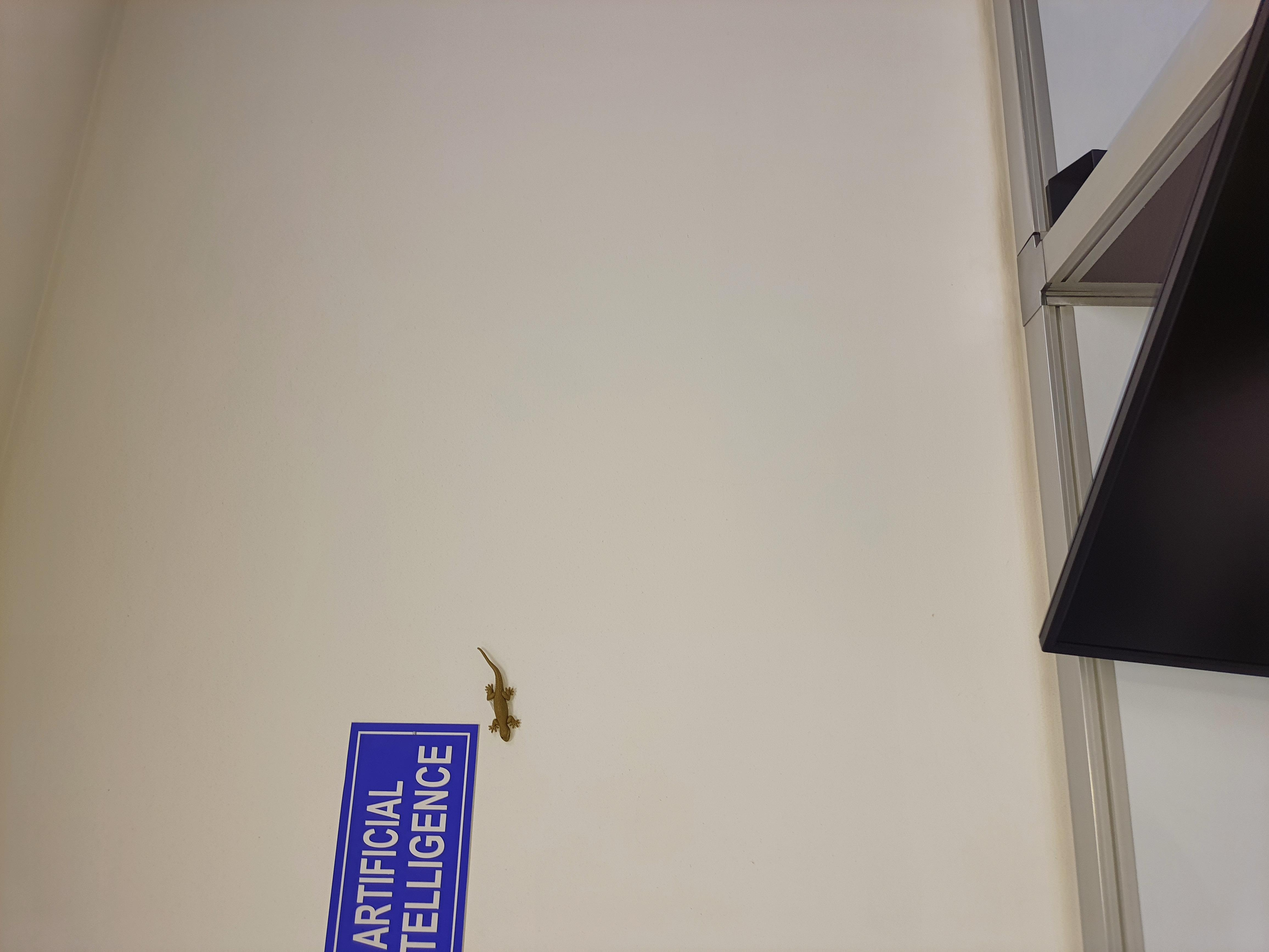lizard: (220, 361, 428, 399)
